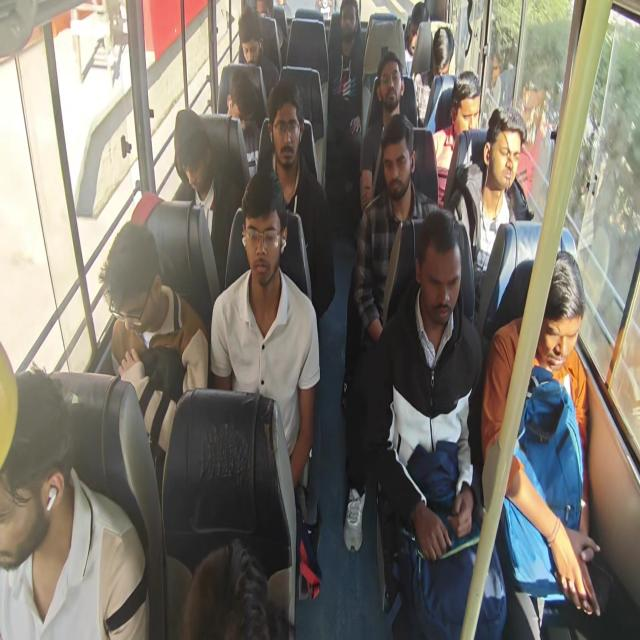person: (2, 1, 631, 638), (365, 208, 507, 638), (481, 249, 602, 619), (342, 113, 442, 552), (0, 366, 149, 638), (209, 169, 321, 525), (98, 220, 209, 493), (242, 78, 336, 321), (449, 106, 534, 309), (173, 108, 246, 290), (180, 538, 273, 638), (325, 0, 364, 233), (358, 51, 414, 213), (431, 70, 482, 206), (413, 26, 454, 125), (238, 8, 280, 103), (226, 70, 261, 178), (404, 1, 428, 77)
